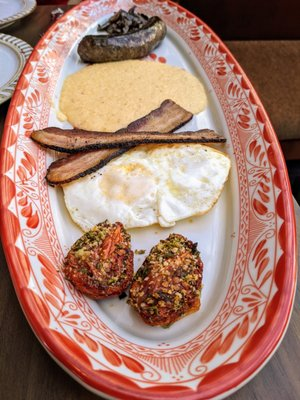curry: (0, 0, 299, 400)
salad: (61, 220, 135, 300)
